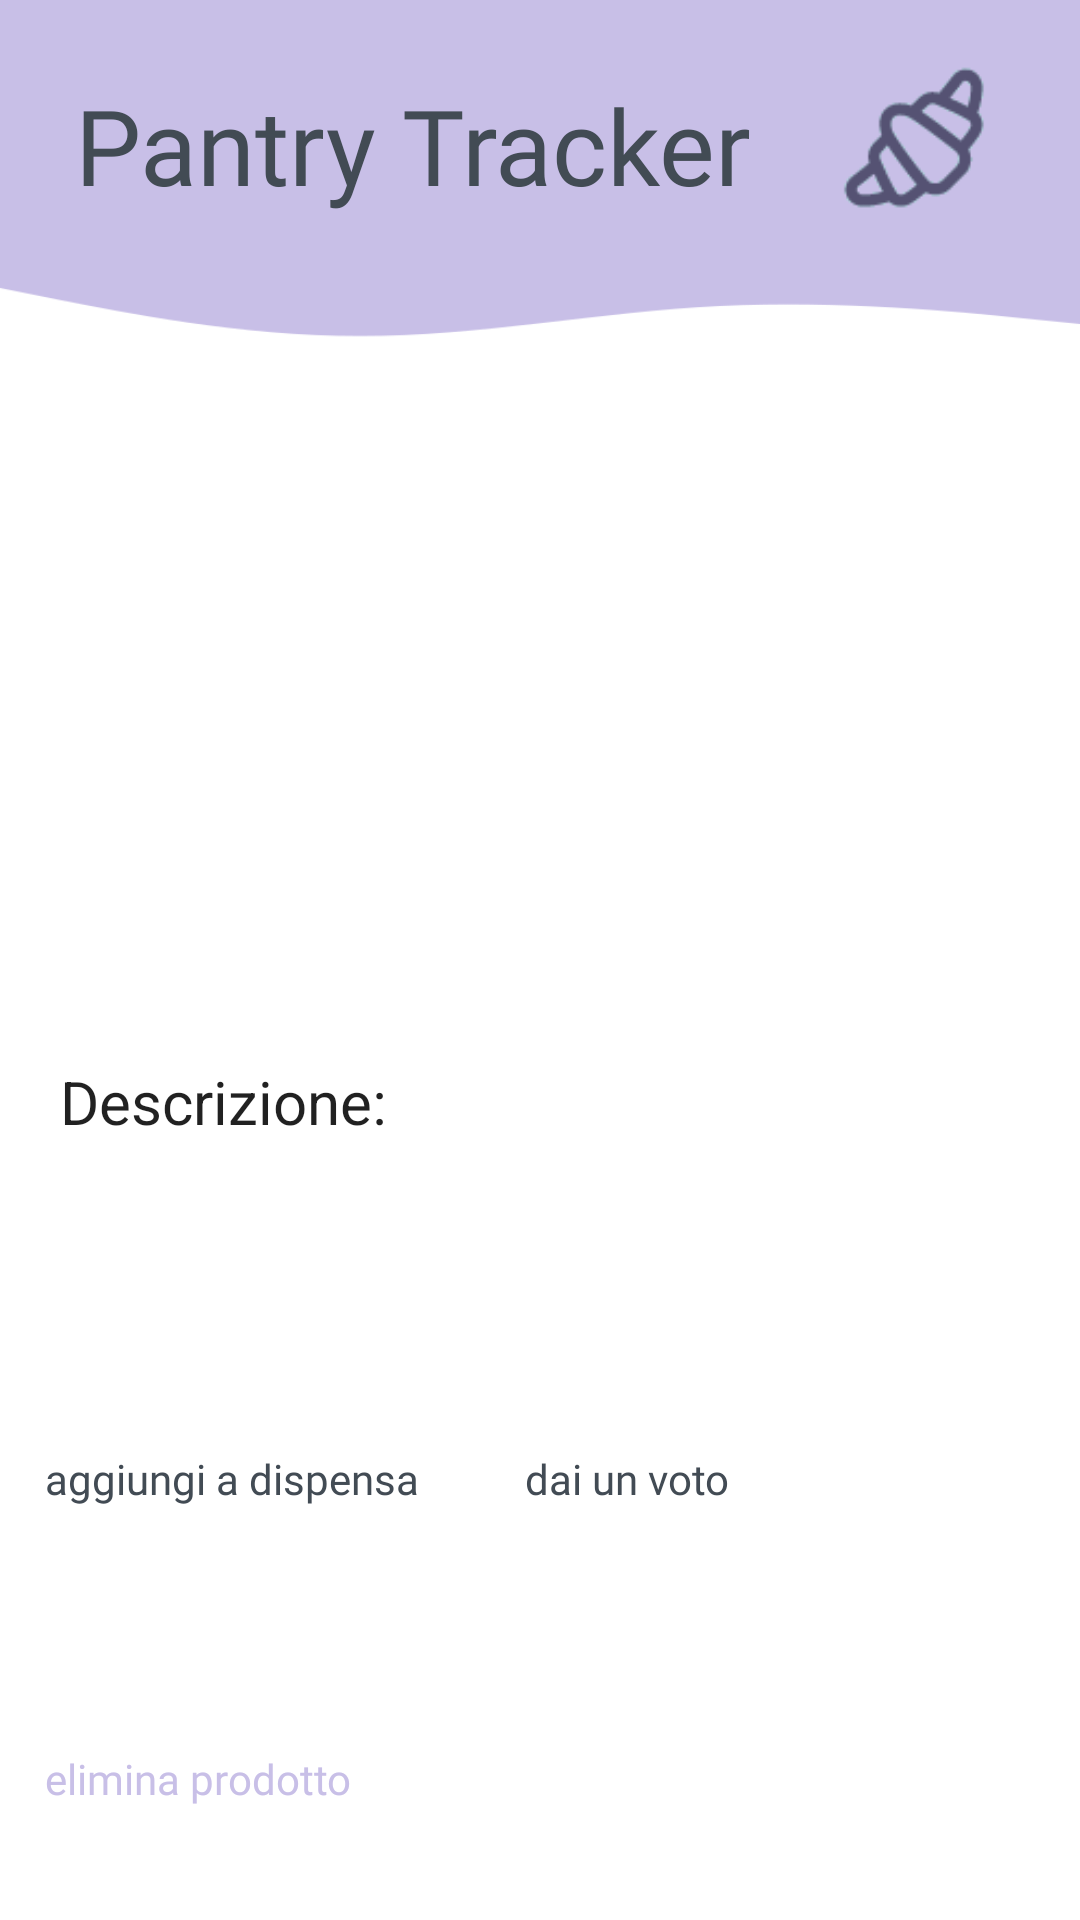

Point at icon controls on the screen. Image size 1080w x 1920h, points as point (x, y).
croissant: point (914, 137)
